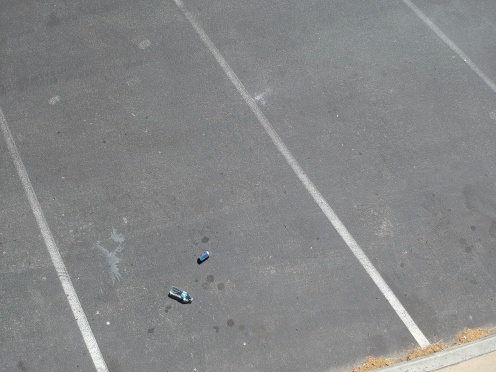bottle: (165, 285, 197, 307)
can: (193, 249, 216, 266)
